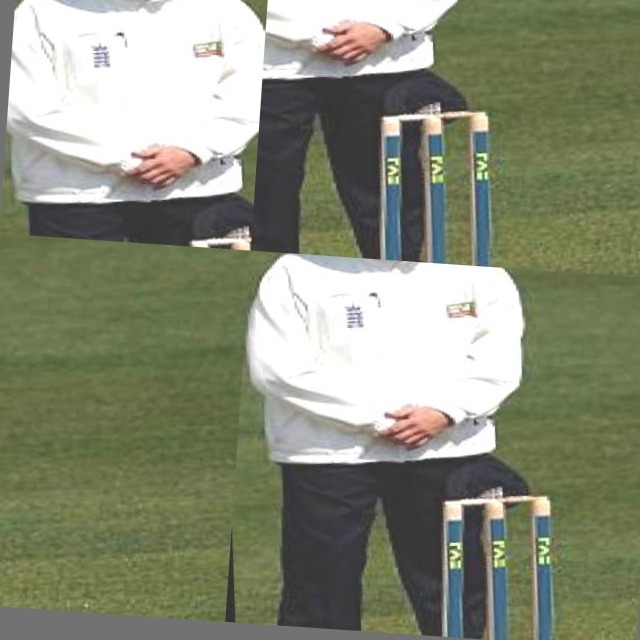No_Action: (225, 251, 584, 640)
No_Ball: (0, 233, 251, 622), (0, 0, 270, 251)
